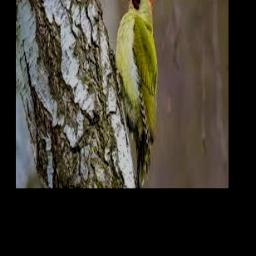Woodpecker: (108, 0, 159, 188)
